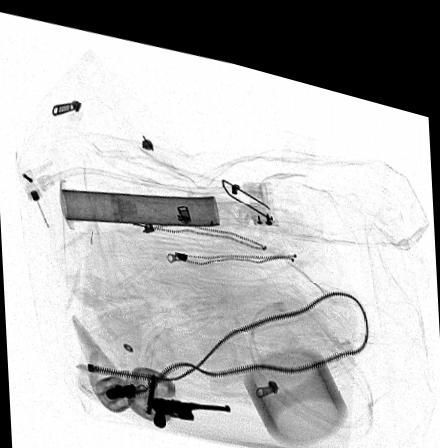Gun: (150, 386, 230, 420)
